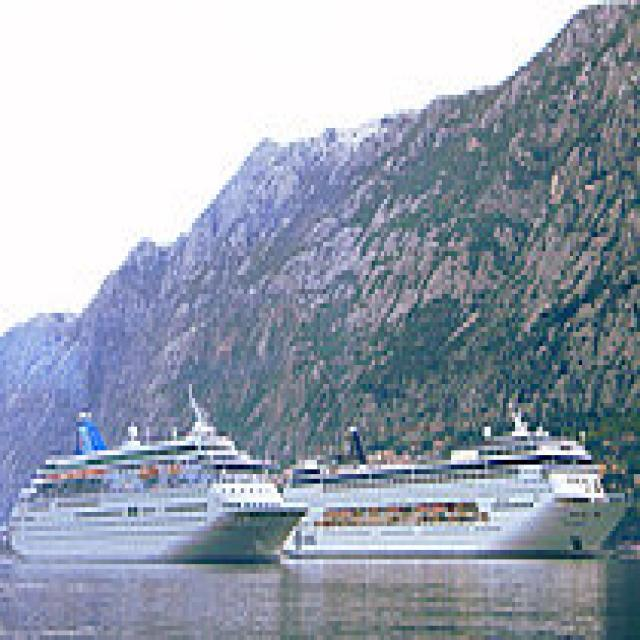Ship: (278, 433, 640, 585), (7, 390, 309, 566)
